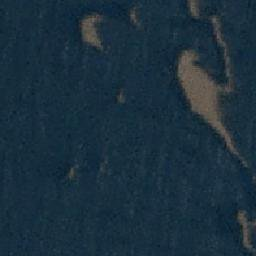debris: (81, 14, 103, 50), (237, 210, 255, 249), (185, 83, 234, 96), (179, 51, 198, 83), (188, 97, 220, 112), (195, 67, 214, 85), (223, 52, 232, 82), (233, 149, 247, 167), (189, 1, 199, 22), (199, 113, 220, 123), (210, 14, 220, 34), (63, 166, 76, 180), (218, 34, 227, 52), (213, 124, 227, 134), (115, 90, 125, 104), (225, 135, 232, 154), (131, 7, 138, 23)
